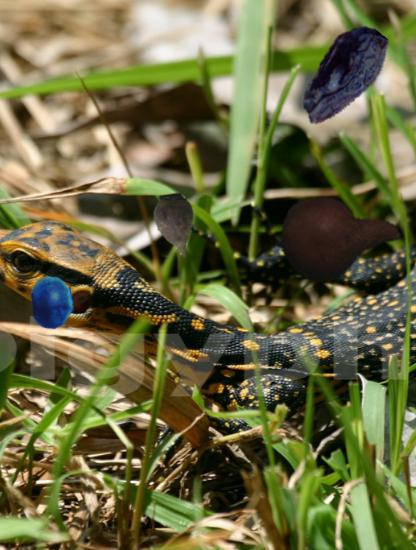Beetroot: (141, 192, 210, 261)
Dates: (285, 18, 400, 133)
Huckleberry: (26, 276, 80, 330)
Pear: (277, 175, 403, 301)
